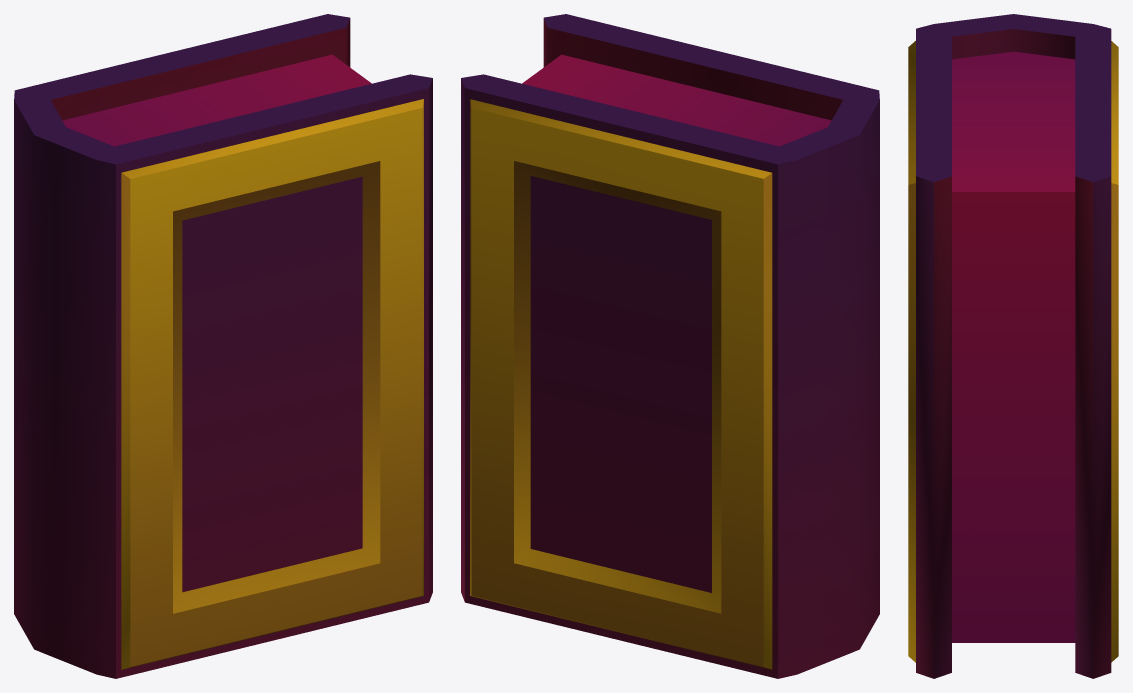
File: SpellBook1h_02.fbx
3 renders of one model, left to right at view 1: azimuth 30°, elevation 25°; view 2: azimuth 150°, elevation 25°; view 3: azimuth 270°, elevation 25°, orthographic. The views are drawn at different scales.
Parts seen in each view (by area): view 1: SpellBook1h_02; view 2: SpellBook1h_02; view 3: SpellBook1h_02.
Boxes of the visible parts, x1,y1,x2,y2 form: SpellBook1h_02: (14,14,432,678); SpellBook1h_02: (461,14,879,678); SpellBook1h_02: (908,14,1118,678).
Bounding box in the file's own units: 31.01 × 42.65 × 16.39.
